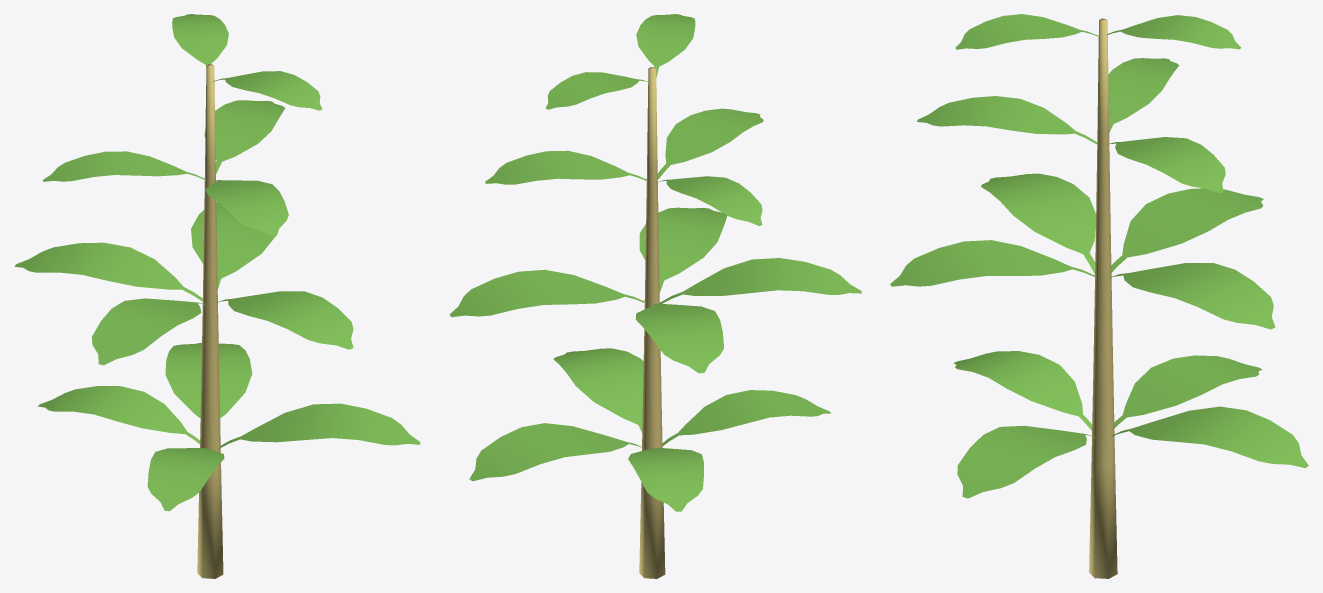
Rendered from model_brotocacau_01.fbx.
3 views of the same model, side by side, from view 1: azimuth 30°, elevation 25°; view 2: azimuth 150°, elevation 25°; view 3: azimuth 270°, elevation 25° (orthographic). The views are drawn at different scales.
Parts seen in each view (by area): view 1: NurbsPath; view 2: NurbsPath; view 3: NurbsPath.
Boxes of the visible parts, bbox=[...] form: NurbsPath: bbox=[14, 14, 420, 578]; NurbsPath: bbox=[449, 14, 861, 578]; NurbsPath: bbox=[890, 14, 1308, 578].
Size of the model in its own units: 0.7973 by 1.27 by 0.8594.
